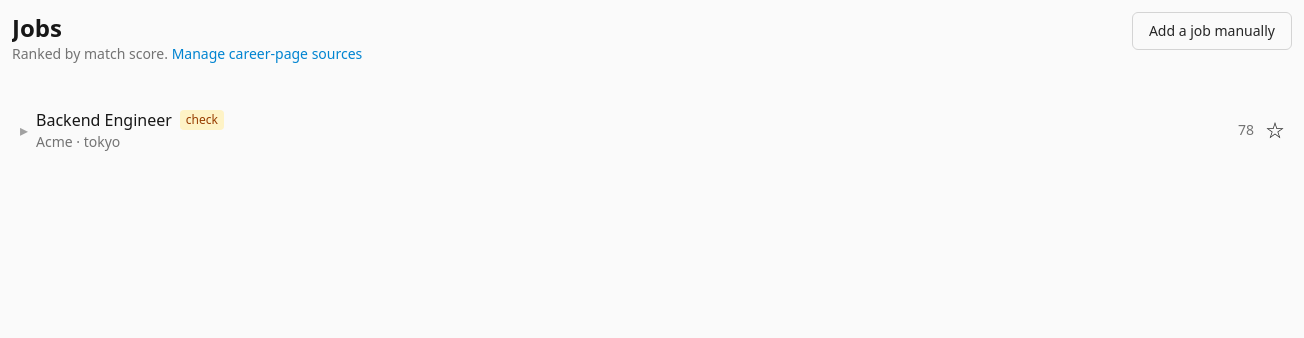
Scenario: shows the match score and, on expand, the rationale and concerns
This screenshot has width=1304, height=338.
Expected: the text "Backend Engineer" is shown, [36,108,172,132]
Expected: the text "check" is shown, [180,110,224,130]
Click the button "▸ Backend Engineer check Acme · tokyo" at (104, 120), box [12,100,1222,160]
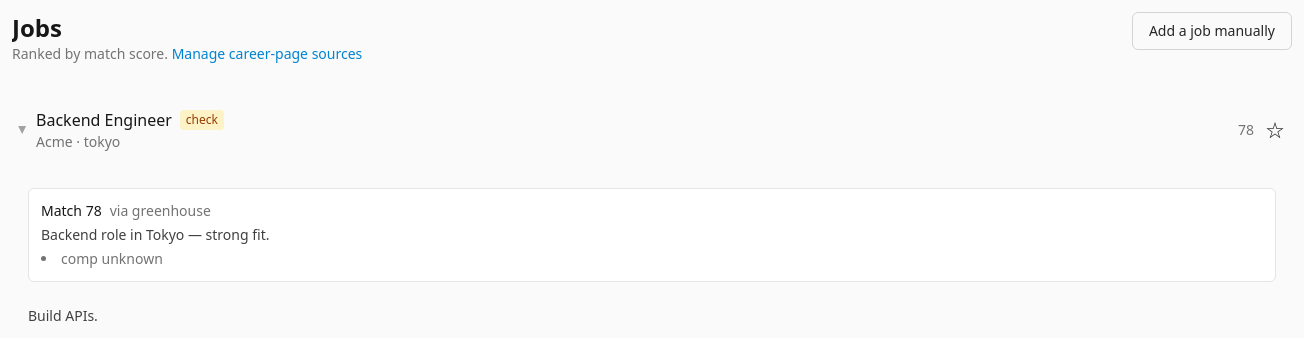
Now the text "Backend role in Tokyo — strong fit." is shown, box [41,225,270,244]
Now the list item "comp unknown" is shown, box [61,249,163,268]
Now the text "via greenhouse" is shown, box [110,201,211,220]
